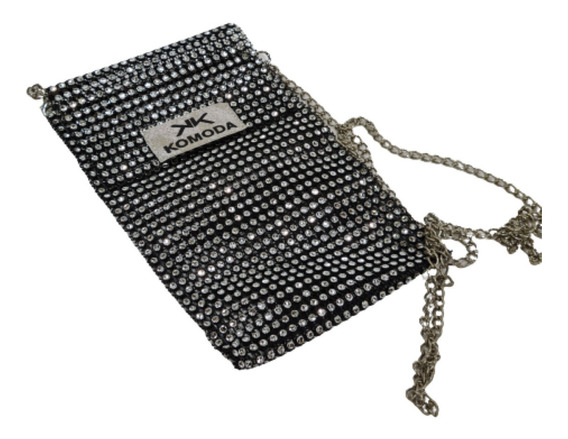cartera: (27, 22, 440, 371)
